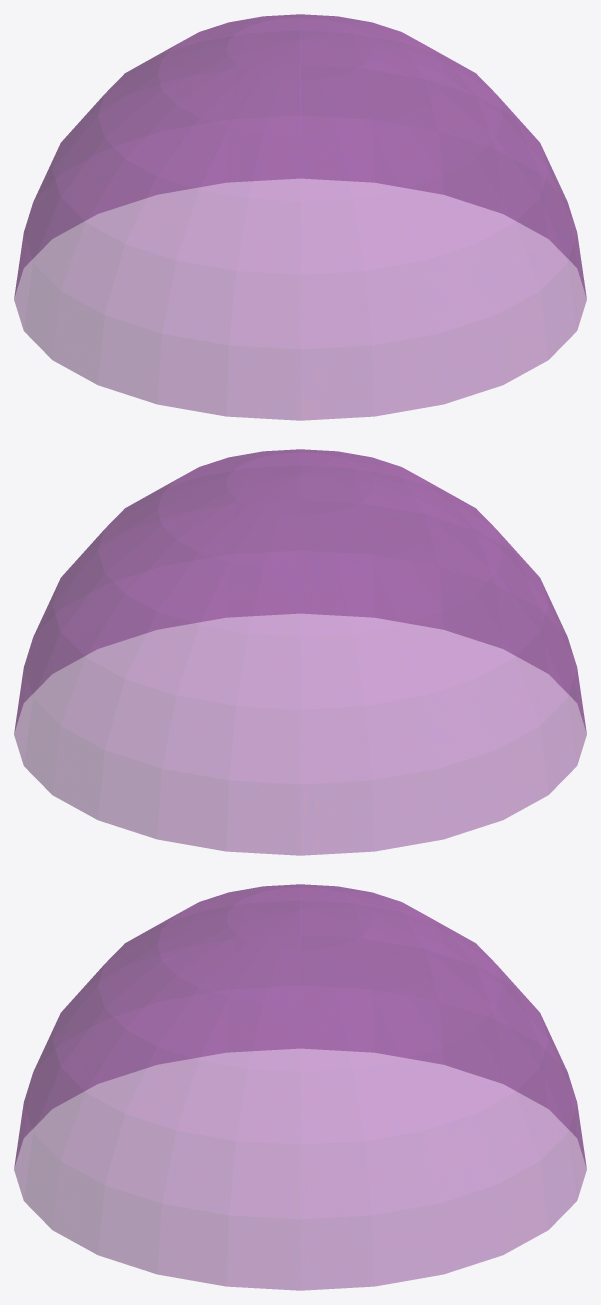
Rendered from red_25_opacity_dome.dae.
3 renders of one model, top to bottom at view 1: azimuth 30°, elevation 25°; view 2: azimuth 150°, elevation 25°; view 3: azimuth 270°, elevation 25°, orthographic.
Visible parts, largest first — view 1: Component1; view 2: Component1; view 3: Component1.
Boxes of the visible parts, <box> form: Component1: <box>14,14,586,420</box>; Component1: <box>14,449,586,855</box>; Component1: <box>14,884,586,1290</box>.
Bounding box in the file's own units: 245371 × 245371 × 132150.
